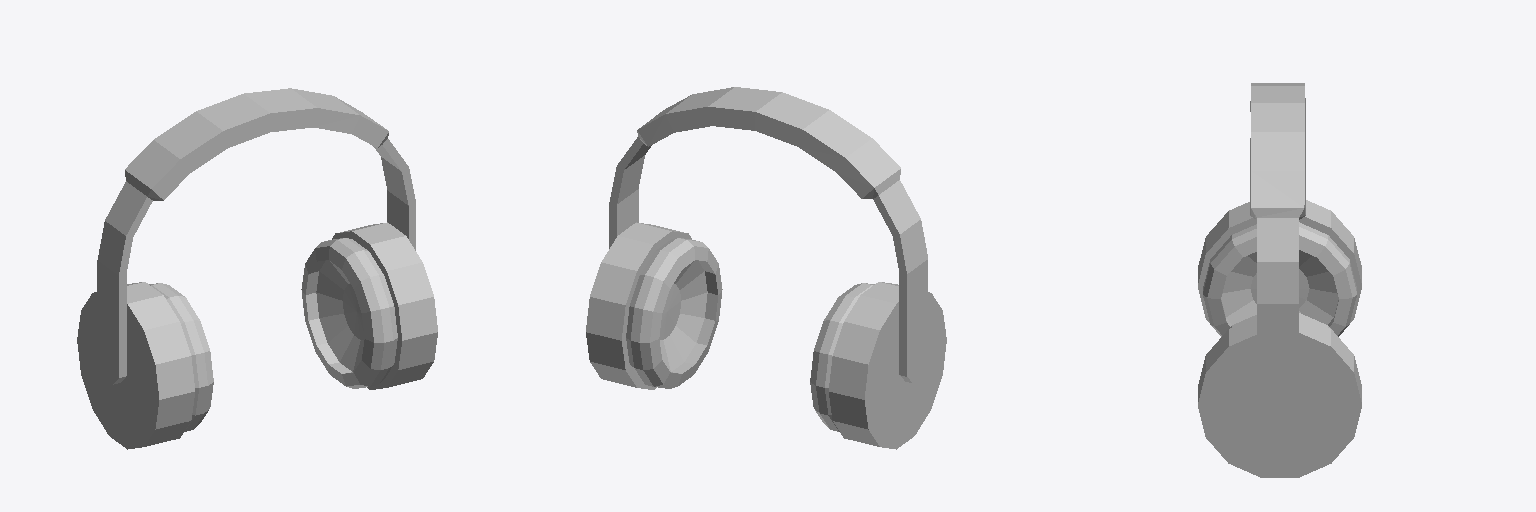
File: ear_phone.obj
The picture shows the model from 3 angles: view 1: azimuth 30°, elevation 25°; view 2: azimuth 150°, elevation 25°; view 3: azimuth 270°, elevation 25°; orthographic projection.
Parts seen in each view (by area): view 1: Cylinder004; view 2: Cylinder004; view 3: Cylinder004.
Part boxes in pixels (x1,y1,x2,y2): Cylinder004: (77, 88, 437, 449); Cylinder004: (586, 87, 946, 449); Cylinder004: (1198, 83, 1361, 477).
Bounding box in the file's own units: 222 × 219 × 107.